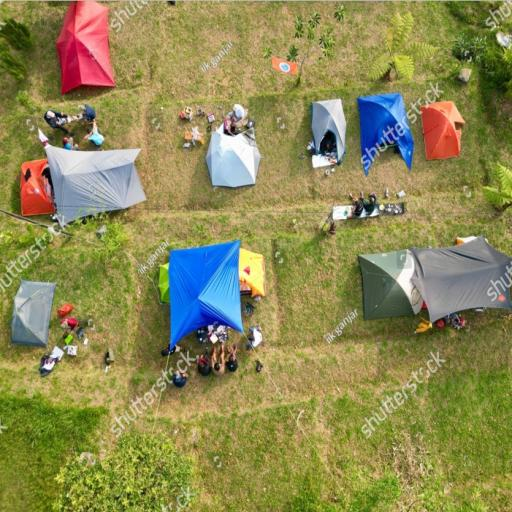tent: (168, 244, 244, 341), (357, 91, 415, 170)
